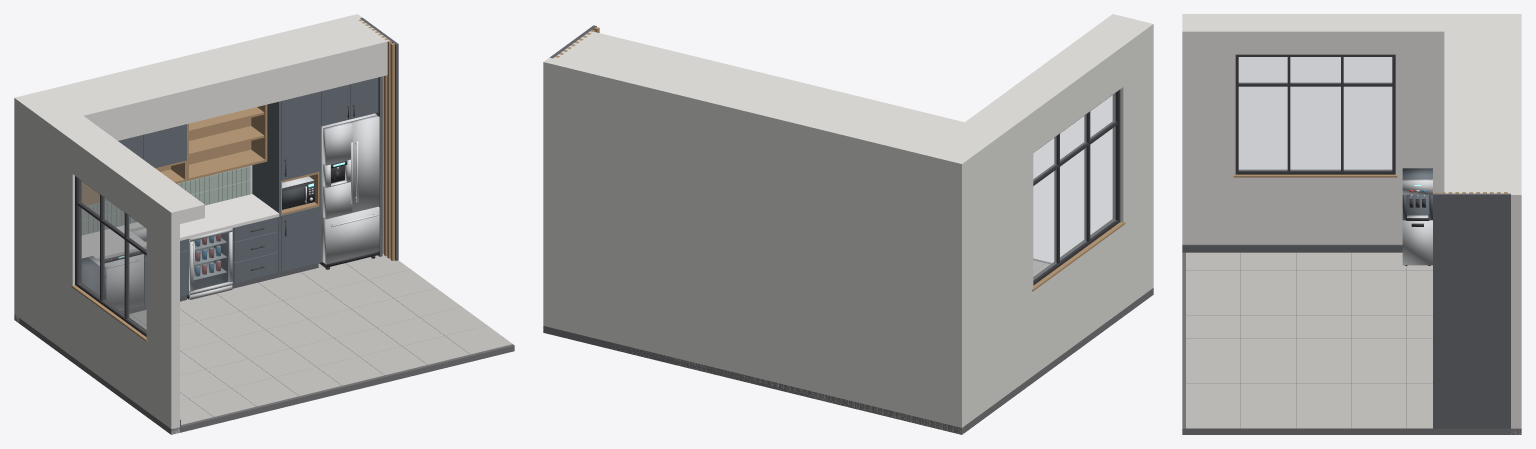
The model's file is pantry_bar.glb.
3 views of the same model, side by side, from view 1: azimuth 30°, elevation 25°; view 2: azimuth 150°, elevation 25°; view 3: azimuth 270°, elevation 25° (orthographic). The views are drawn at different scales.
Visible parts, largest first — view 1: Arch_Floor_Tiles, Arch_Wall_Left, Arch_Ceiling_Soffit, Cab_Doors_Drawers, App_Refrigerator, Arch_Partition_Glass, Cab_Upper_Oak, Arch_Floor_Slab, Cab_Quartz_Countertop, Cab_Tall_Units, Arch_Wall_Back, Arch_Partition_Frame (+12 smaller); view 2: Arch_Wall_Back, Arch_Wall_Left, Arch_Ceiling_Soffit, Arch_Partition_Glass, Arch_Floor_Slab, Arch_Partition_Frame, Arch_Partition_Sill; view 3: Arch_Floor_Tiles, Arch_Wall_Left, Arch_Ceiling_Soffit, Arch_Slat_Backing, Arch_Partition_Glass, Arch_Wall_Back, Arch_Partition_Frame, Arch_Floor_Slab, App_Water_Dispenser, Arch_Baseboard, Arch_Partition_Sill.
Part boxes in pixels (left/top/right/bottom): Arch_Floor_Tiles: left=129, top=254, right=512, bottom=424; Arch_Wall_Left: left=19, top=99, right=179, bottom=434; Arch_Ceiling_Soffit: left=28, top=18, right=389, bottom=223; Cab_Doors_Drawers: left=144, top=77, right=378, bottom=304; App_Refrigerator: left=319, top=113, right=379, bottom=269; Arch_Partition_Glass: left=78, top=179, right=146, bottom=332; Cab_Upper_Oak: left=81, top=104, right=267, bottom=205; Arch_Floor_Slab: left=14, top=314, right=514, bottom=434; Cab_Quartz_Countertop: left=81, top=194, right=279, bottom=260; Cab_Tall_Units: left=252, top=76, right=382, bottom=272; Arch_Wall_Back: left=14, top=14, right=361, bottom=323; Arch_Partition_Frame: left=75, top=176, right=146, bottom=336; Arch_Wall_Back: left=543, top=57, right=967, bottom=434; Arch_Wall_Left: left=958, top=21, right=1153, bottom=423; Arch_Ceiling_Soffit: left=553, top=14, right=1142, bottom=156; Arch_Partition_Glass: left=1033, top=93, right=1115, bottom=279; Arch_Floor_Slab: left=543, top=258, right=1153, bottom=434; Arch_Partition_Frame: left=1033, top=89, right=1120, bottom=285; Arch_Partition_Sill: left=1032, top=220, right=1125, bottom=291; Arch_Floor_Tiles: left=1186, top=252, right=1432, bottom=428; Arch_Wall_Left: left=1182, top=14, right=1510, bottom=244; Arch_Ceiling_Soffit: left=1182, top=18, right=1510, bottom=193; Arch_Slat_Backing: left=1433, top=193, right=1510, bottom=428; Arch_Partition_Glass: left=1238, top=57, right=1392, bottom=170; Arch_Wall_Back: left=1511, top=14, right=1521, bottom=434; Arch_Partition_Frame: left=1235, top=54, right=1395, bottom=174; Arch_Floor_Slab: left=1182, top=252, right=1521, bottom=434; App_Water_Dispenser: left=1402, top=168, right=1432, bottom=265; Arch_Baseboard: left=1182, top=244, right=1402, bottom=252; Arch_Partition_Sill: left=1233, top=174, right=1397, bottom=177.
Size of the model in its own units: 4.83 by 2.98 by 3.82.
